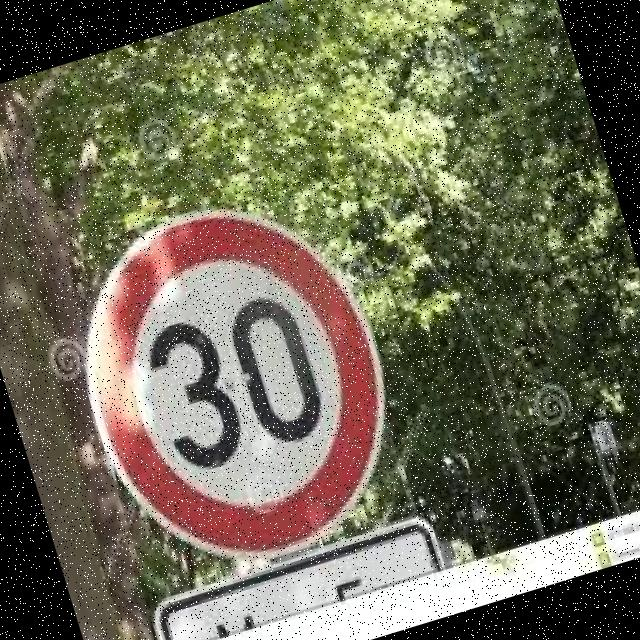speed_limit_30: (38, 166, 436, 602)
